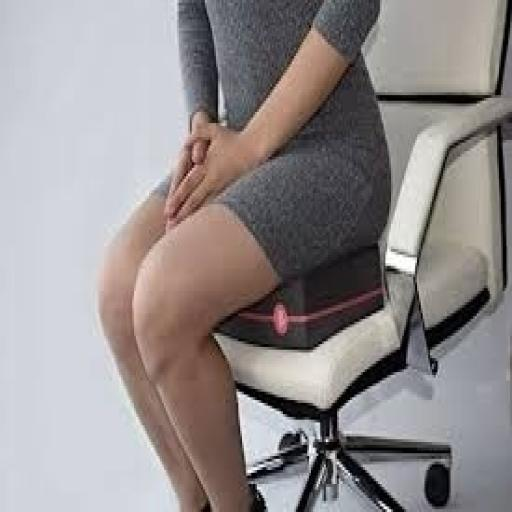sitting: (95, 0, 393, 509)
